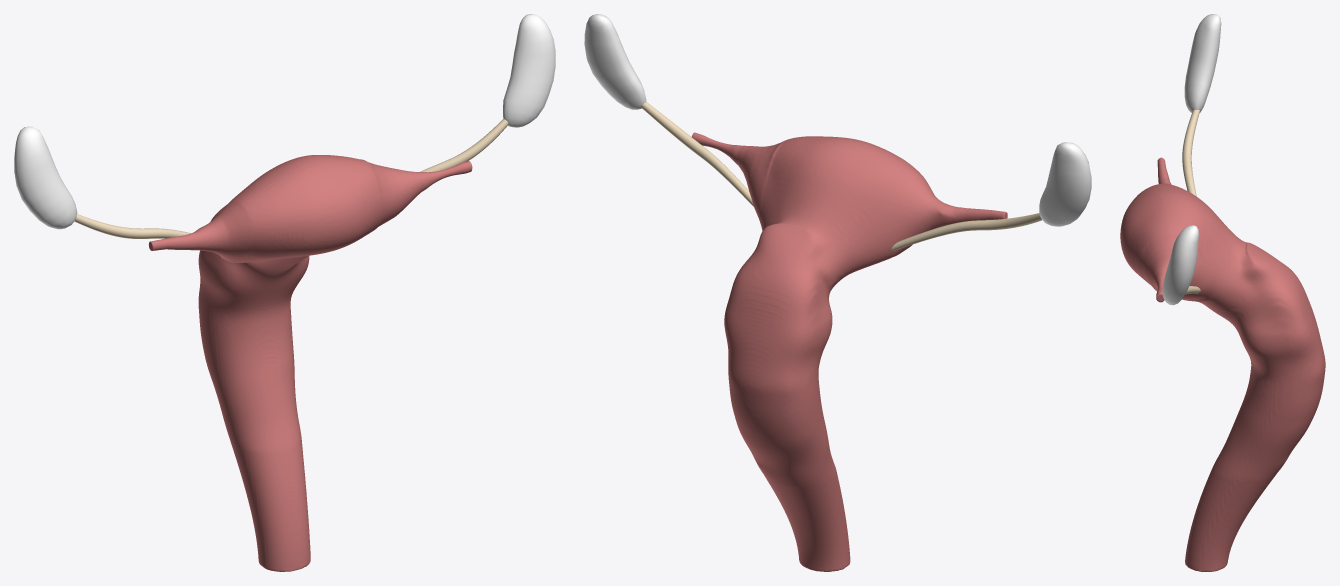
Rendered from ieobom-female-reproductive-v2.glb.
The picture shows the model from 3 angles, left to right: view 1: azimuth 30°, elevation 25°; view 2: azimuth 150°, elevation 25°; view 3: azimuth 270°, elevation 25°; orthographic projection. The views are drawn at different scales.
Parts seen in each view (by area): view 1: FEMALE_HRA_TX_VH_F_uterus_cervix_vagina_tubes_ContinuousV54_, FEMALE_HRA_TX_VH_F_left_ovary.001, FEMALE_HRA_TX_VH_F_right_ovary.001, FEMALE_HRA_FIT_ovarian_ligament_R.001, FEMALE_HRA_FIT_ovarian_ligament_L.001; view 2: FEMALE_HRA_TX_VH_F_uterus_cervix_vagina_tubes_ContinuousV54_, FEMALE_HRA_TX_VH_F_left_ovary.001, FEMALE_HRA_TX_VH_F_right_ovary.001, FEMALE_HRA_FIT_ovarian_ligament_R.001, FEMALE_HRA_FIT_ovarian_ligament_L.001; view 3: FEMALE_HRA_TX_VH_F_uterus_cervix_vagina_tubes_ContinuousV54_, FEMALE_HRA_TX_VH_F_right_ovary.001, FEMALE_HRA_TX_VH_F_left_ovary.001, FEMALE_HRA_FIT_ovarian_ligament_R.001.
Part boxes in pixels (bbox=[...]): FEMALE_HRA_TX_VH_F_uterus_cervix_vagina_tubes_ContinuousV54_: bbox=[148, 155, 472, 571]; FEMALE_HRA_TX_VH_F_left_ovary.001: bbox=[503, 14, 555, 127]; FEMALE_HRA_TX_VH_F_right_ovary.001: bbox=[14, 126, 77, 229]; FEMALE_HRA_FIT_ovarian_ligament_R.001: bbox=[75, 214, 190, 238]; FEMALE_HRA_FIT_ovarian_ligament_L.001: bbox=[420, 119, 508, 172]; FEMALE_HRA_TX_VH_F_uterus_cervix_vagina_tubes_ContinuousV54_: bbox=[692, 132, 1007, 571]; FEMALE_HRA_TX_VH_F_left_ovary.001: bbox=[584, 14, 646, 109]; FEMALE_HRA_TX_VH_F_right_ovary.001: bbox=[1039, 142, 1091, 226]; FEMALE_HRA_FIT_ovarian_ligament_R.001: bbox=[891, 213, 1042, 250]; FEMALE_HRA_FIT_ovarian_ligament_L.001: bbox=[641, 101, 753, 206]; FEMALE_HRA_TX_VH_F_uterus_cervix_vagina_tubes_ContinuousV54_: bbox=[1120, 157, 1325, 571]; FEMALE_HRA_TX_VH_F_right_ovary.001: bbox=[1184, 14, 1221, 112]; FEMALE_HRA_TX_VH_F_left_ovary.001: bbox=[1162, 225, 1198, 305]; FEMALE_HRA_FIT_ovarian_ligament_R.001: bbox=[1182, 109, 1200, 196].
Size of the model in its own units: 0.1247 by 0.1118 by 0.0472.
